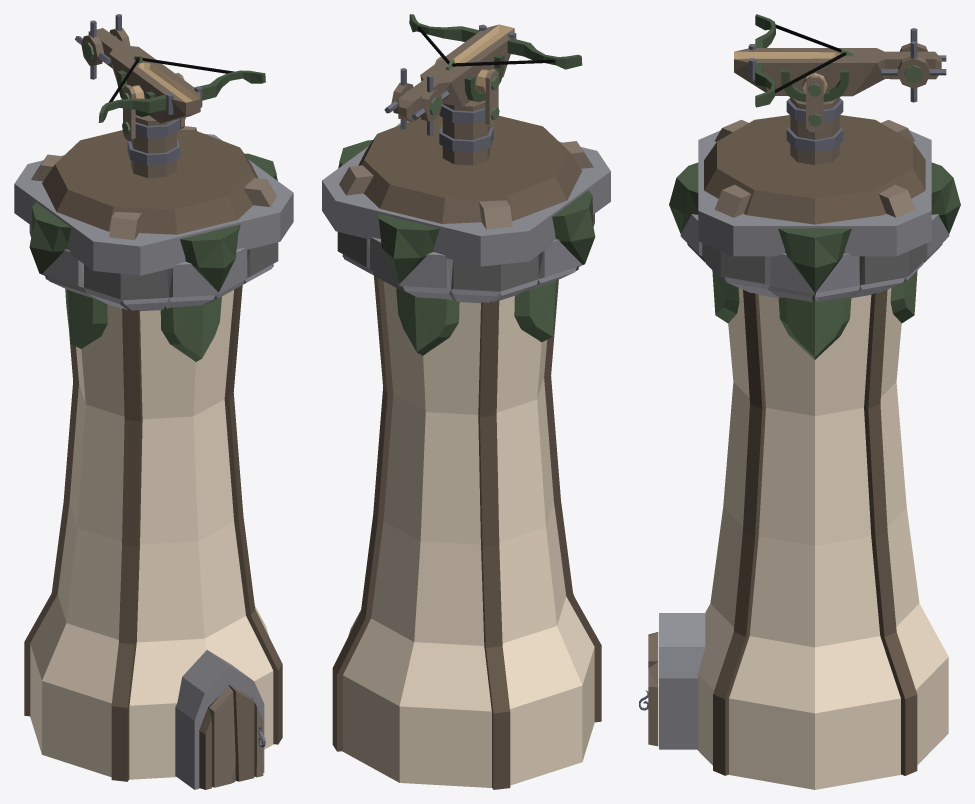
File: Balista_lvl_1.glb
The picture shows the model from 3 angles, left to right: view 1: azimuth 30°, elevation 25°; view 2: azimuth 150°, elevation 25°; view 3: azimuth 270°, elevation 25°; orthographic projection. The views are drawn at different scales.
Visible parts, largest first — view 1: Ballista_tower_LVL_1; view 2: Ballista_tower_LVL_1; view 3: Ballista_tower_LVL_1.
Part boxes in pixels (bbox=[...]): Ballista_tower_LVL_1: bbox=[14, 14, 293, 789]; Ballista_tower_LVL_1: bbox=[322, 14, 610, 789]; Ballista_tower_LVL_1: bbox=[639, 14, 960, 789].
Bounding box in the file's own units: 9.99 × 25.76 × 10.78.
1 material, 1 textured.
